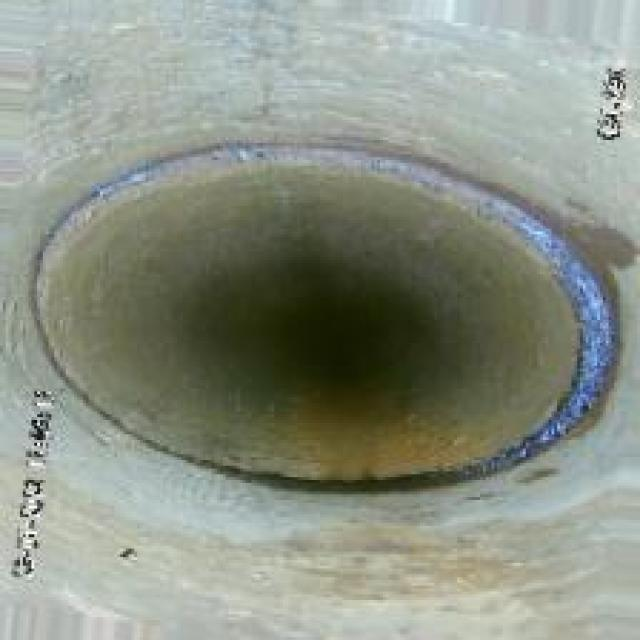joint: (26, 132, 628, 488)
